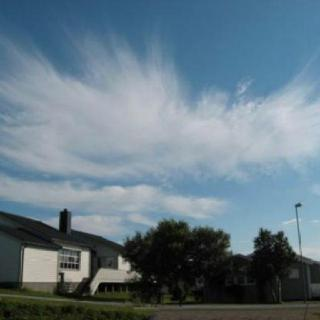Cirrus: (0, 0, 320, 248)
